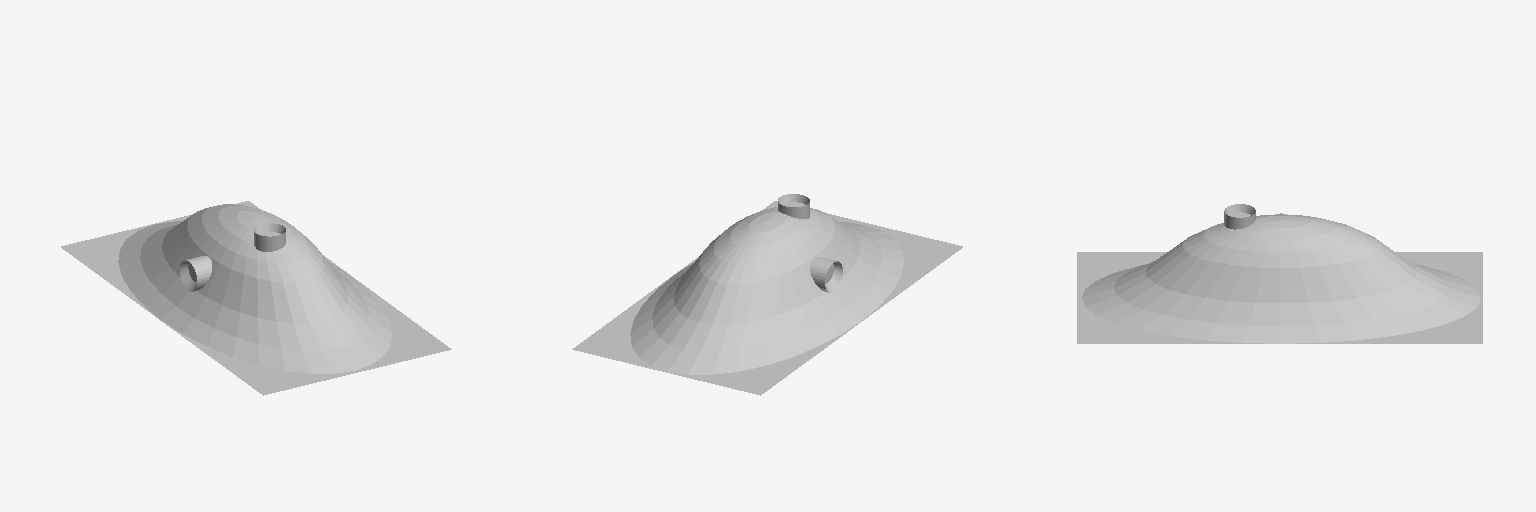
File: ground_house.obj
3 renders of one model, left to right at view 1: azimuth 30°, elevation 25°; view 2: azimuth 150°, elevation 25°; view 3: azimuth 270°, elevation 25°, orthographic.
Parts seen in each view (by area): view 1: Sphere; view 2: Sphere; view 3: Sphere.
Part boxes in pixels (bbox=[...]): Sphere: bbox=[61, 201, 451, 395]; Sphere: bbox=[572, 194, 962, 395]; Sphere: bbox=[1077, 204, 1482, 343].
Size of the model in its own units: 3.88 by 1.65 by 7.23.